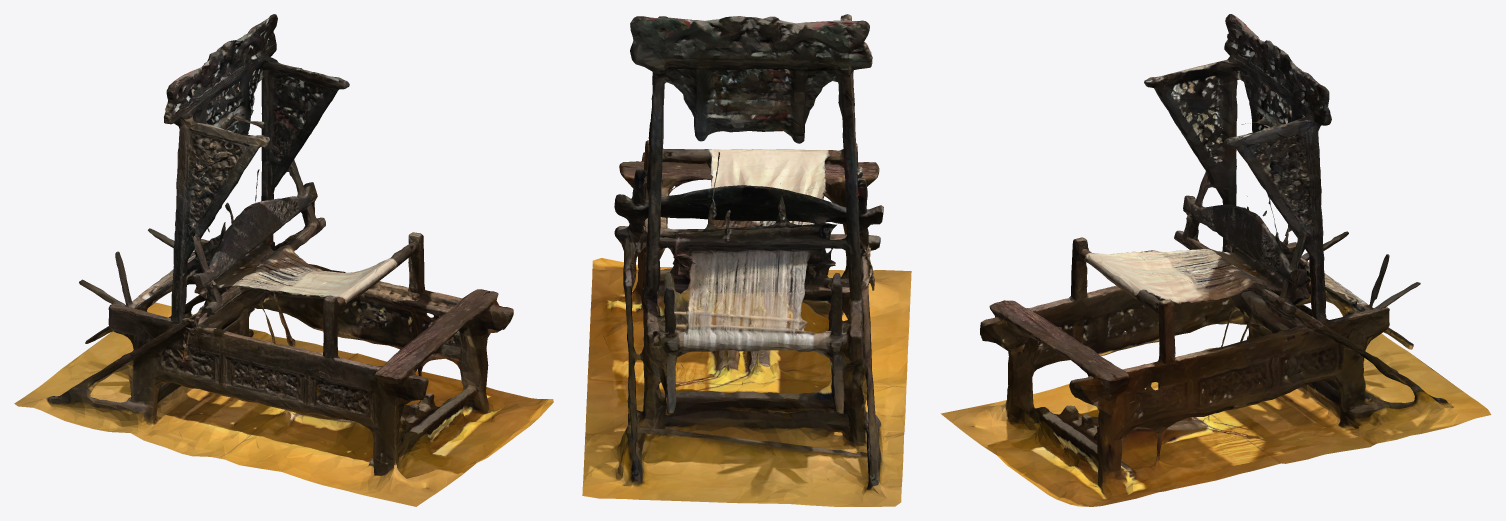
File: Khung cửi.glb
The picture shows the model from 3 angles, left to right: view 1: azimuth 30°, elevation 25°; view 2: azimuth 150°, elevation 25°; view 3: azimuth 270°, elevation 25°; orthographic projection. The views are drawn at different scales.
Bounding box in the file's own units: 1.88 × 1.59 × 2.21.
Materials: 1 (1 with a texture image).
